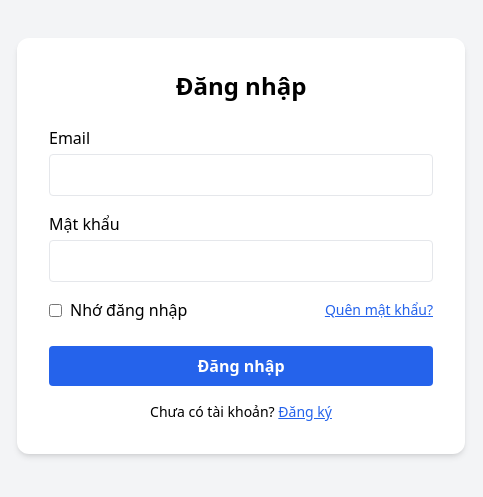
Test: LoginPage › báo lỗi khi submit form mà để trống các trường
Click the button "Đăng nhập": (241, 366) [49,346,433,386]
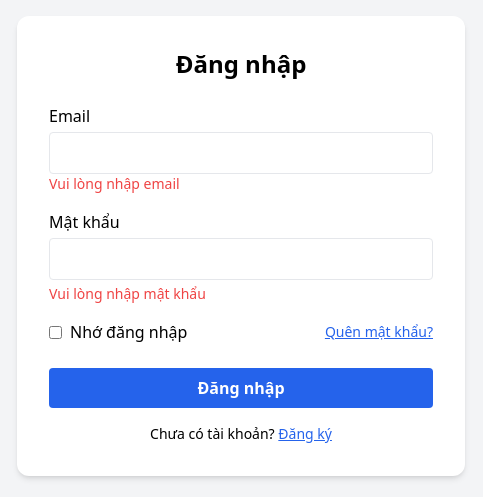
Expected: the text "Vui lòng nhập email" is shown, [49,174,180,193]
Expected: the text "Vui lòng nhập mật khẩu" is shown, [49,284,206,303]
